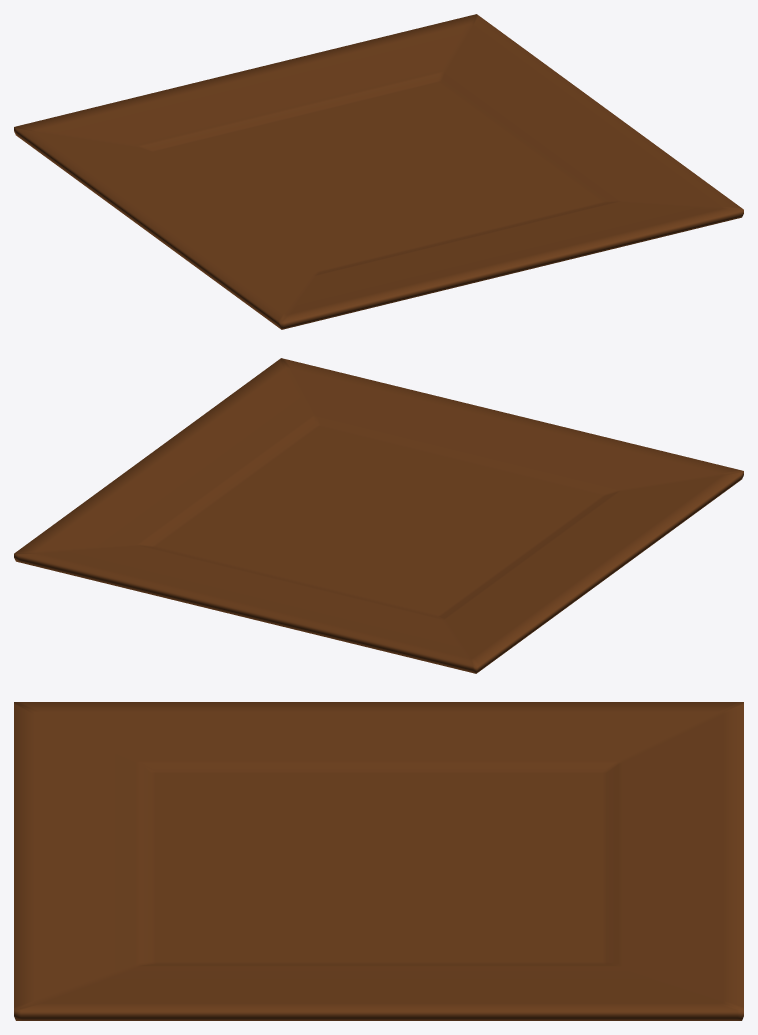
Rendered from plate.gltf.
3 renders of one model, top to bottom at view 1: azimuth 30°, elevation 25°; view 2: azimuth 150°, elevation 25°; view 3: azimuth 270°, elevation 25°, orthographic. The views are drawn at different scales.
Parts seen in each view (by area): view 1: Plate_Square_Large.001; view 2: Plate_Square_Large.001; view 3: Plate_Square_Large.001.
Part boxes in pixels (x1=…): Plate_Square_Large.001: x1=14, y1=14, x2=743, y2=329; Plate_Square_Large.001: x1=14, y1=358, x2=743, y2=673; Plate_Square_Large.001: x1=14, y1=702, x2=743, y2=1020.
Bounding box in the file's own units: 4.64 × 0.3023 × 4.64.
